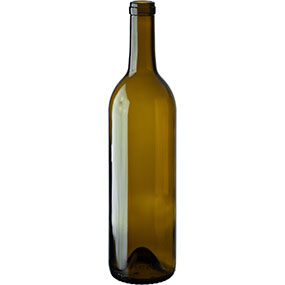glass_bottle: (107, 1, 180, 284)
